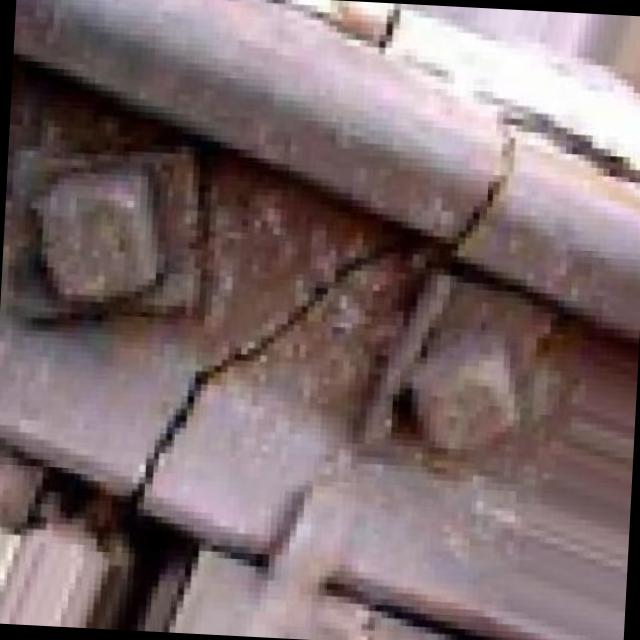defective: (87, 0, 621, 640)
